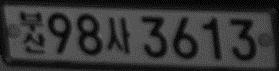1: (200, 17, 226, 59)
3: (140, 15, 168, 58), (230, 17, 256, 60)
6: (172, 16, 198, 59)
8: (76, 12, 102, 56)
9: (46, 10, 72, 54)
부산_V: (18, 10, 47, 55)
사: (105, 16, 131, 54)
